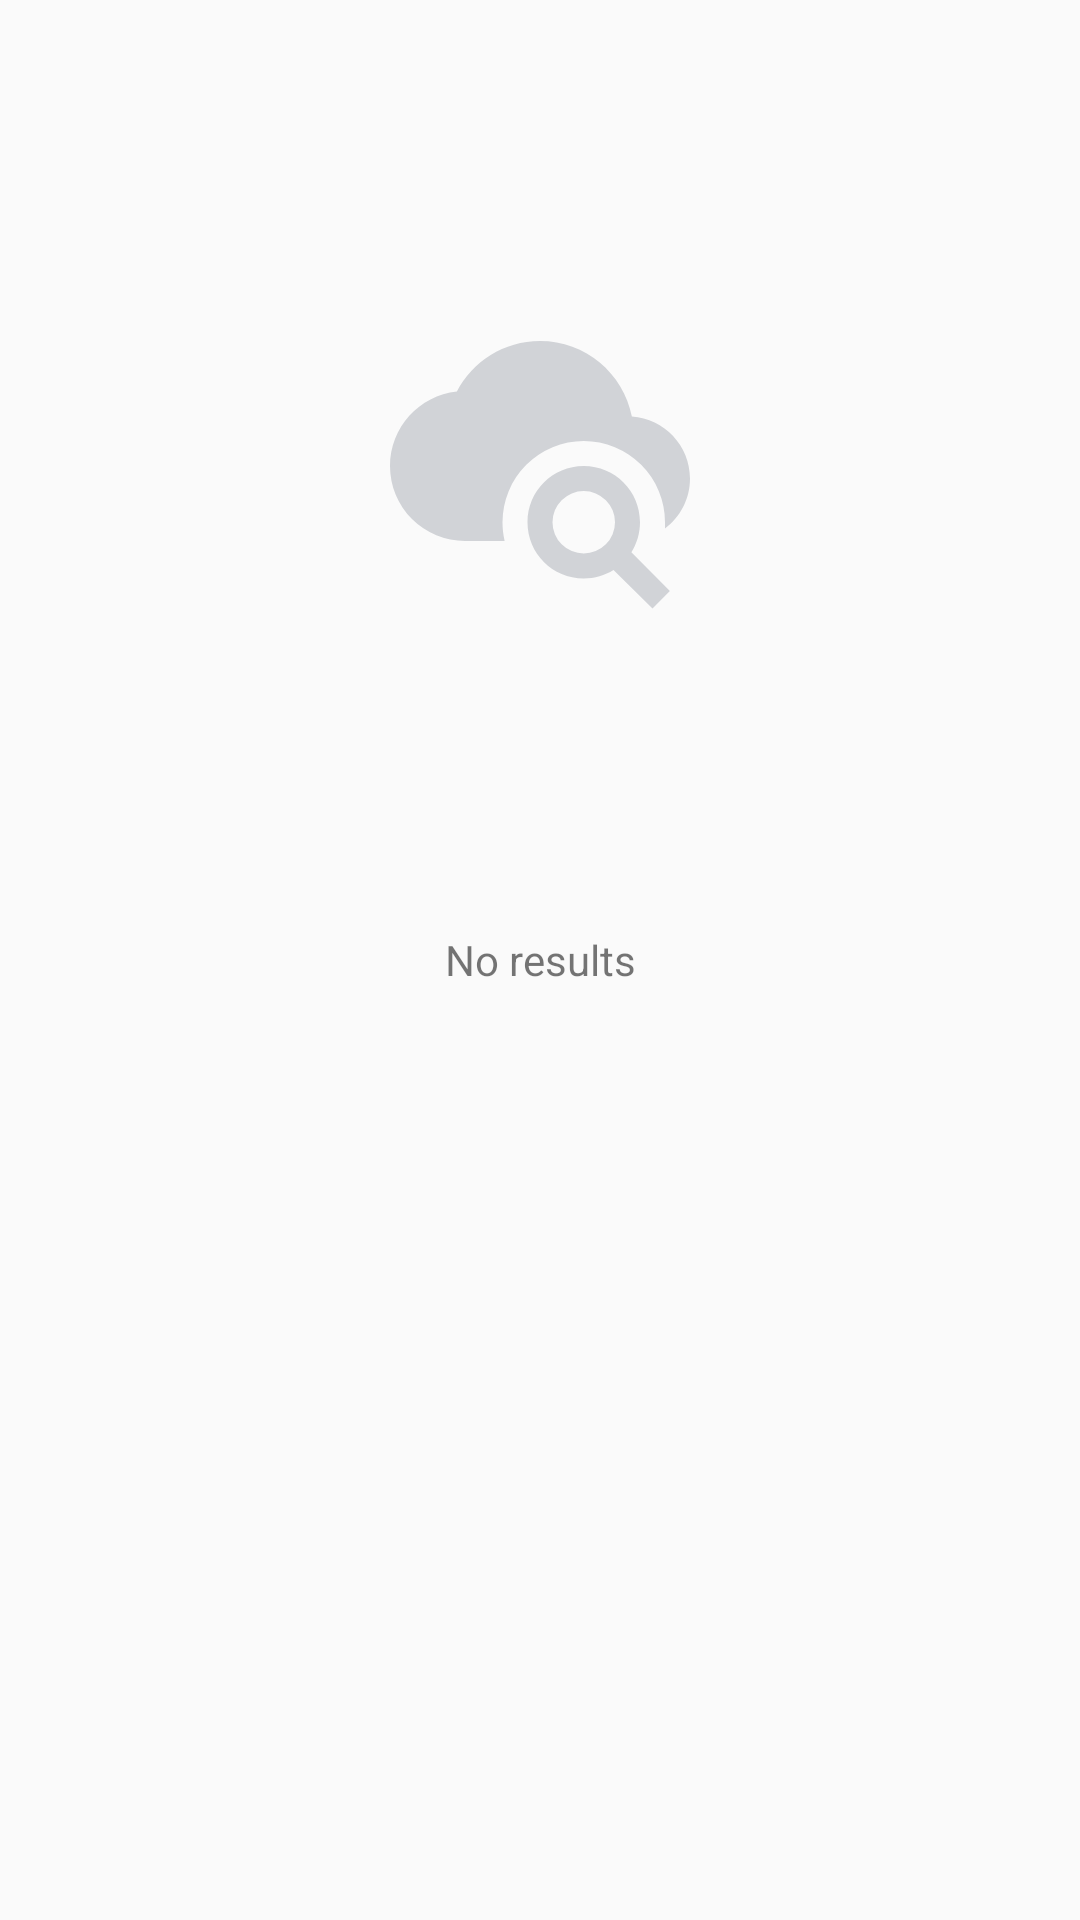

Icons on this 1080 × 1920 Android screen, each with the point to tap as (x,y):
cloud search: (540,474)
